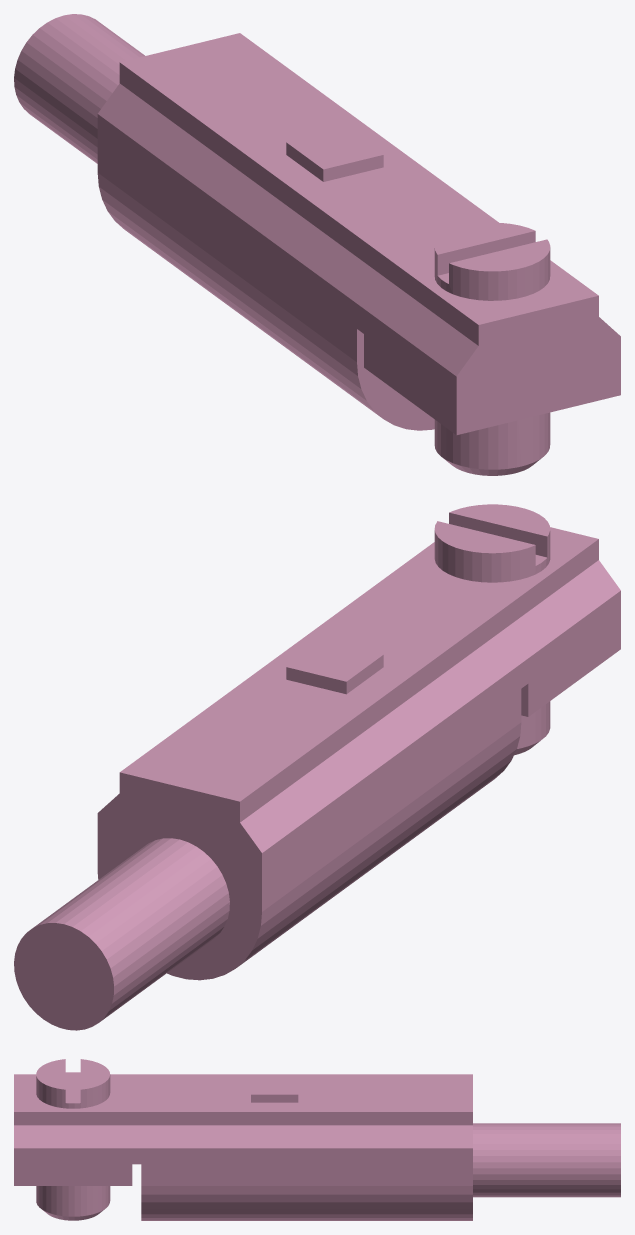
Rendered from case-02_lib00007.glb.
The picture shows the model from 3 angles, top to bottom: view 1: azimuth 30°, elevation 25°; view 2: azimuth 150°, elevation 25°; view 3: azimuth 270°, elevation 25°; orthographic projection. The views are drawn at different scales.
Parts seen in each view (by area): view 1: lib00007; view 2: lib00007; view 3: lib00007.
Boxes of the visible parts, x1,y1,x2,y2 form: lib00007: (14,14,620,475); lib00007: (14,504,620,1030); lib00007: (14,1059,620,1220).
Bounding box in the file's own units: 4.1 × 5.24 × 20.5.
